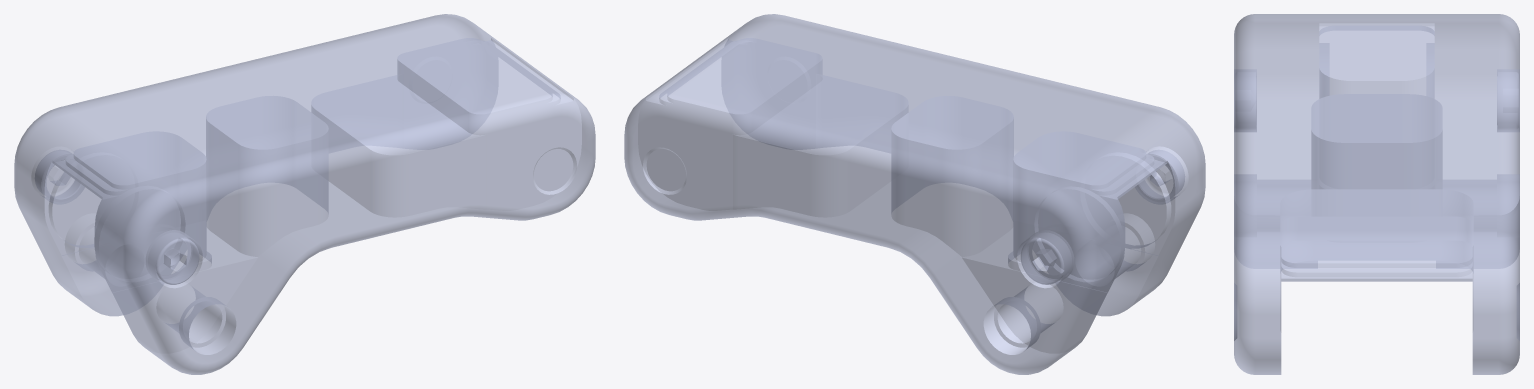
Rendered from robotiq_85_parallel_left.obj.
3 renders of one model, left to right at view 1: azimuth 30°, elevation 25°; view 2: azimuth 150°, elevation 25°; view 3: azimuth 270°, elevation 25°, orthographic. The views are drawn at different scales.
Visible parts, largest first — view 1: mesh67, mesh118, mesh109, mesh66, mesh136, mesh63, mesh127, mesh133, mesh29, mesh0, mesh10, mesh95 (+51 smaller); view 2: mesh67, mesh109, mesh118, mesh65, mesh131, mesh63, mesh127, mesh133, mesh50, mesh71, mesh10, mesh88 (+51 smaller); view 3: mesh67, mesh103, mesh133, mesh10, mesh43, mesh63, mesh127, mesh65, mesh66, mesh26, mesh54, mesh92 (+54 smaller).
Boxes of the visible parts, <box> form: mesh67: <box>64,16,544,185</box>; mesh118: <box>147,116,586,363</box>; mesh109: <box>23,26,458,272</box>; mesh66: <box>170,94,554,208</box>; mesh136: <box>487,99,581,210</box>; mesh63: <box>16,108,169,246</box>; mesh127: <box>311,75,483,154</box>; mesh133: <box>397,38,552,113</box>; mesh29: <box>113,258,257,353</box>; mesh0: <box>99,189,180,278</box>; mesh10: <box>74,131,206,184</box>; mesh95: <box>410,137,480,215</box>; mesh67: <box>675,16,1155,185</box>; mesh109: <box>633,116,1072,363</box>; mesh118: <box>761,26,1196,272</box>; mesh65: <box>665,94,1049,208</box>; mesh131: <box>638,99,732,210</box>; mesh63: <box>1050,108,1203,246</box>; mesh127: <box>736,75,908,154</box>; mesh133: <box>667,38,822,113</box>; mesh50: <box>962,258,1106,353</box>; mesh71: <box>1038,189,1120,279</box>; mesh10: <box>1013,131,1145,184</box>; mesh88: <box>739,137,809,215</box>; mesh67: <box>1255,20,1498,230</box>; mesh103: <box>1255,231,1498,314</box>; mesh133: <box>1281,217,1472,262</box>; mesh10: <box>1319,26,1434,80</box>; mesh43: <box>1311,94,1442,142</box>; mesh63: <box>1255,14,1498,49</box>; mesh127: <box>1280,189,1473,244</box>; mesh65: <box>1499,20,1519,247</box>; mesh66: <box>1234,20,1254,247</box>; mesh26: <box>1255,101,1315,179</box>; mesh54: <box>1438,101,1498,179</box>; mesh92: <box>1255,222,1498,291</box>.
Size of the model in its own units: 0.0595 by 0.0235 by 0.0272.
